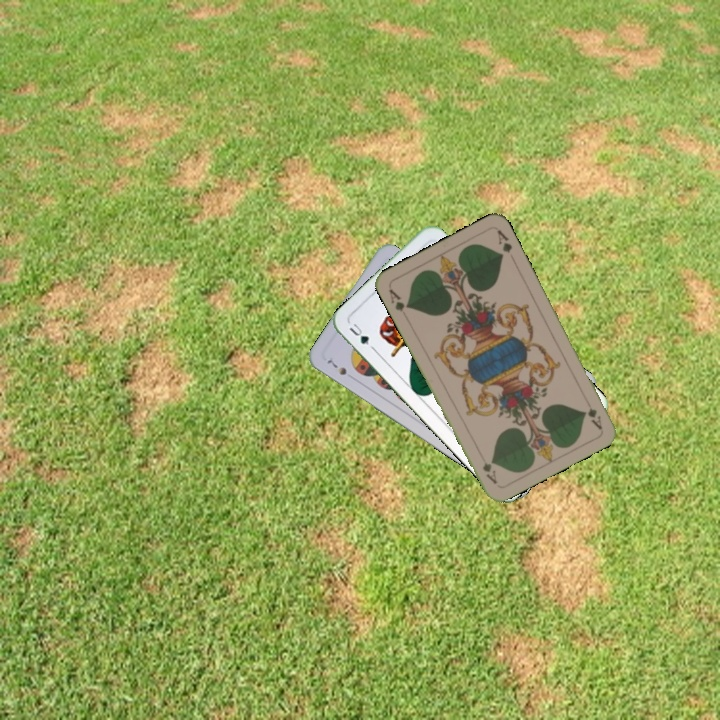GA: (385, 285, 412, 321), (580, 394, 605, 432)
GU: (345, 319, 376, 352)
S7: (323, 356, 349, 378)
